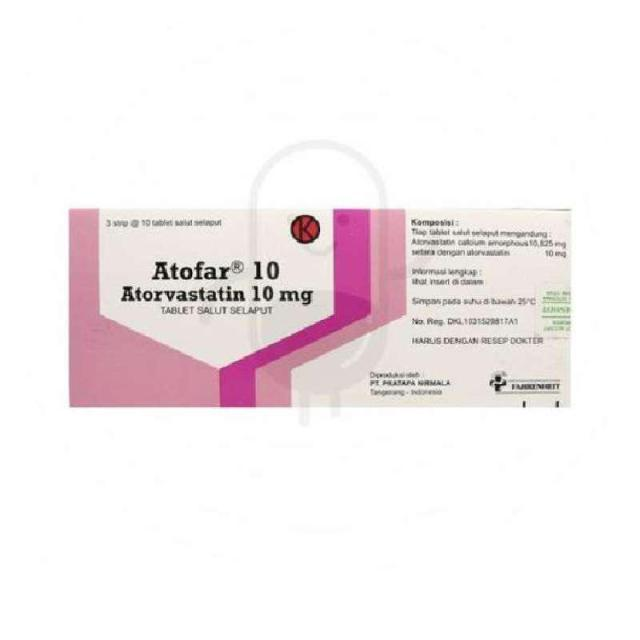drug-name: (148, 260, 278, 284)
